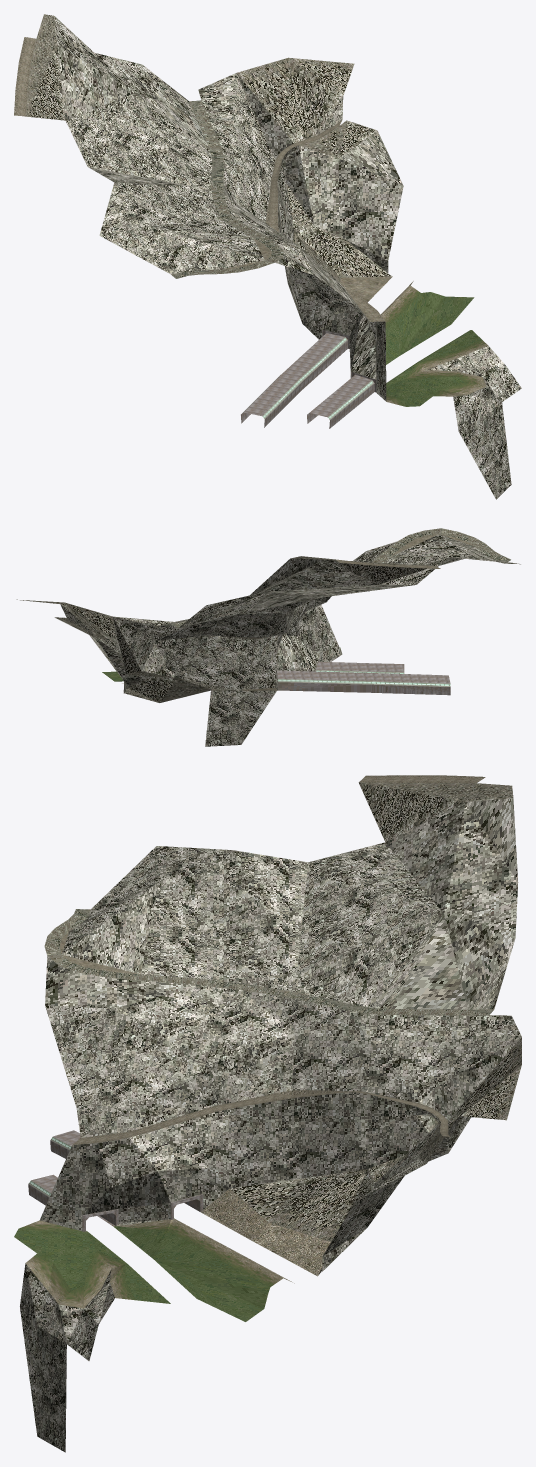
Rendered from lod_cs_landbit_36.obj.
3 renders of one model, top to bottom at view 1: azimuth 30°, elevation 25°; view 2: azimuth 150°, elevation 25°; view 3: azimuth 270°, elevation 25°, orthographic. The views are drawn at different scales.
Parts seen in each view (by area): view 1: lod_cs_landbit_36; view 2: lod_cs_landbit_36; view 3: lod_cs_landbit_36.
Part boxes in pixels (x1,y1,x2,y2): lod_cs_landbit_36: [14, 14, 521, 499]; lod_cs_landbit_36: [16, 528, 520, 746]; lod_cs_landbit_36: [14, 775, 521, 1452].
Size of the model in its own units: 248 by 234 by 217.
Materials: 9 (9 with a texture image).
